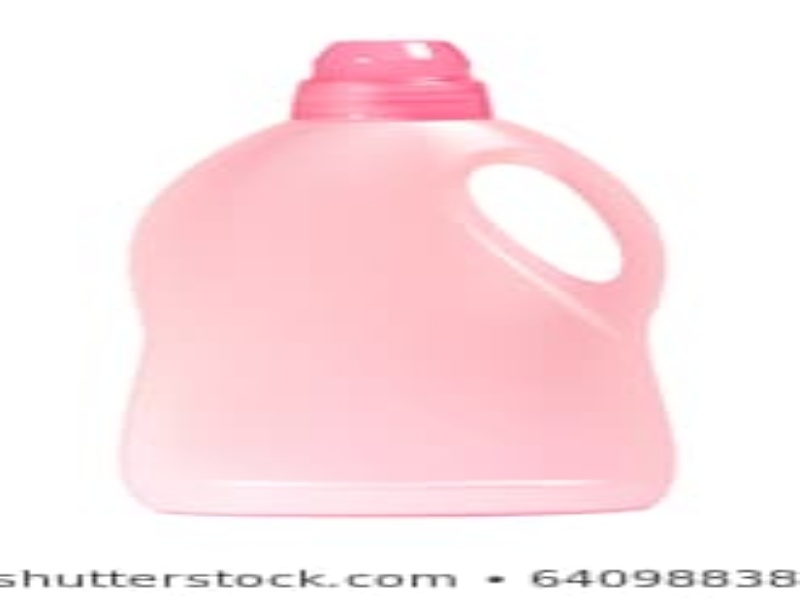detergent-bottle: (115, 34, 684, 521)
